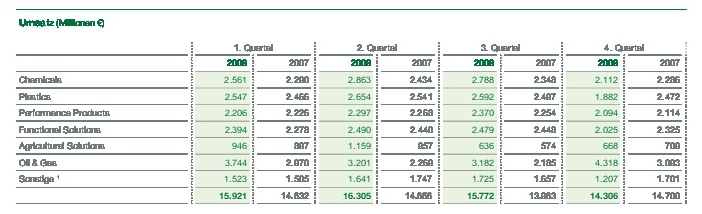table: (0, 0, 702, 214)
